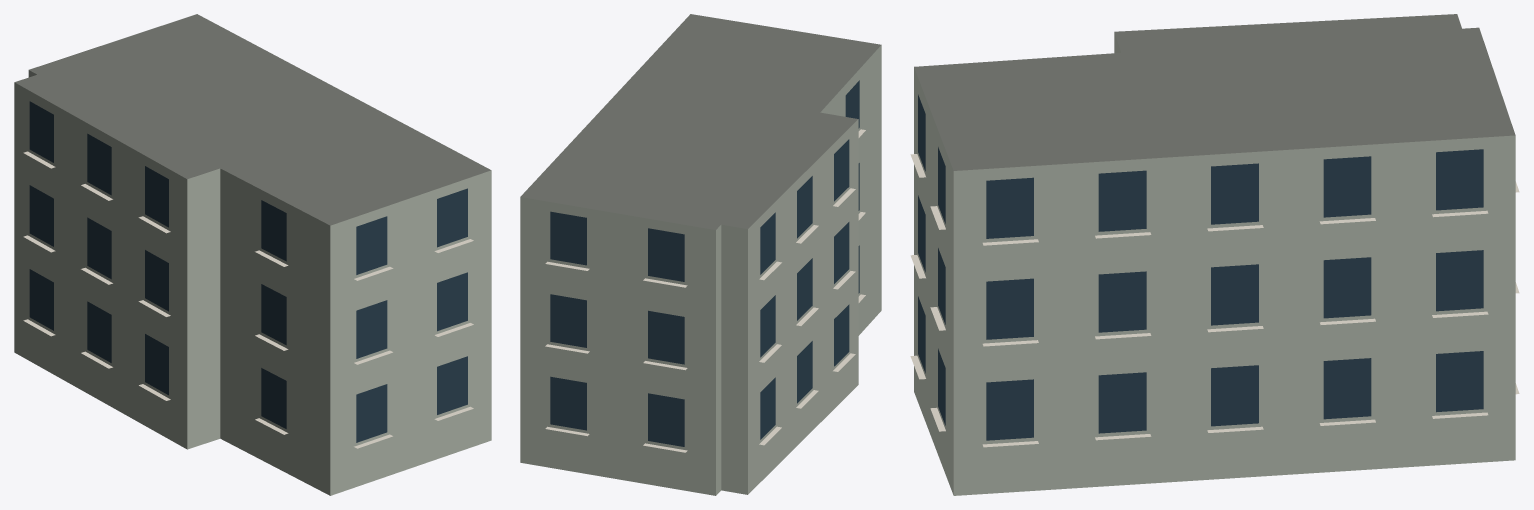
3 renders of one model, left to right at view 1: azimuth 30°, elevation 25°; view 2: azimuth 150°, elevation 25°; view 3: azimuth 270°, elevation 25°, orthographic. The views are drawn at different scales.
Parts seen in each view (by area): view 1: Footprint 0, Inferred window bays, Window sills; view 2: Footprint 0, Inferred window bays, Window sills; view 3: Footprint 0, Inferred window bays, Window sills.
Boxes of the visible parts, x1=… form: Footprint 0: x1=14, y1=14, x2=491, y2=495; Inferred window bays: x1=29, y1=101, x2=467, y2=442; Window sills: x1=23, y1=151, x2=473, y2=448; Footprint 0: x1=520, y1=14, x2=881, y2=495; Inferred window bays: x1=550, y1=80, x2=859, y2=446; Window sills: x1=545, y1=129, x2=865, y2=452; Footprint 0: x1=914, y1=14, x2=1515, y2=495; Inferred window bays: x1=918, y1=94, x2=1483, y2=440; Window sills: x1=910, y1=154, x2=1519, y2=447.
Bounding box in the file's own units: 9.8 × 9.2 × 15.64.
